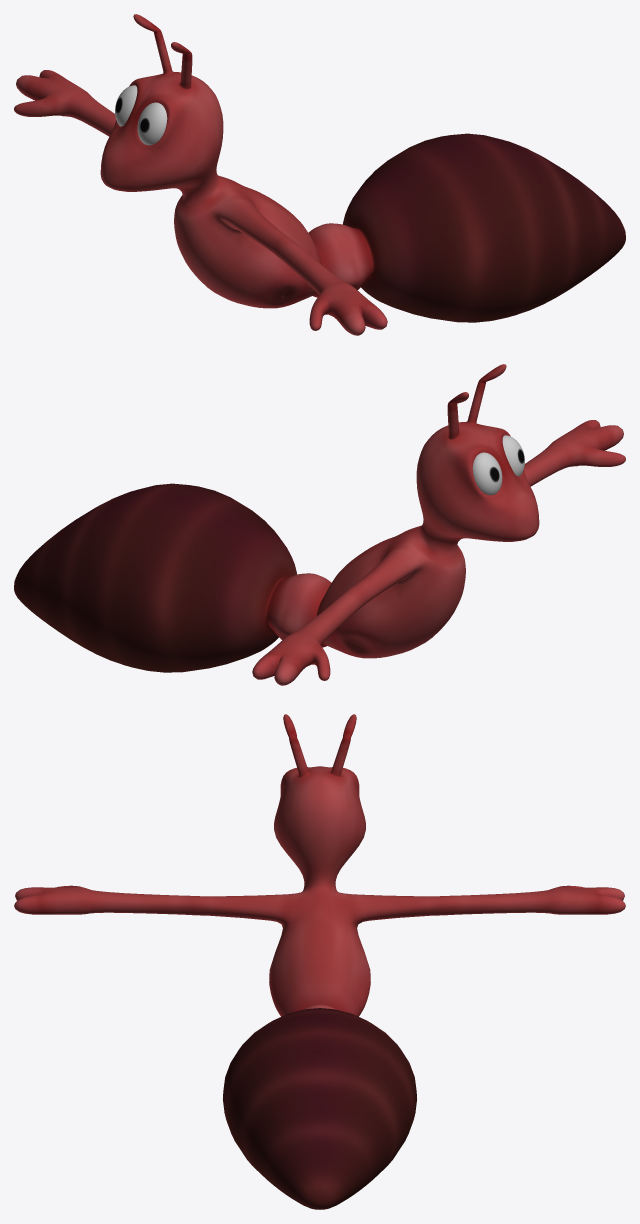
File: antLegsSmall.fbx
The picture shows the model from 3 angles, top to bottom: view 1: azimuth 30°, elevation 25°; view 2: azimuth 150°, elevation 25°; view 3: azimuth 270°, elevation 25°; orthographic projection. The views are drawn at different scales.
Parts seen in each view (by area): view 1: Cube; view 2: Cube; view 3: Cube.
Part boxes in pixels (x1,y1,x2,y2): Cube: [14, 14, 625, 335]; Cube: [14, 364, 625, 685]; Cube: [14, 714, 625, 1209].
Bounding box in the file's own units: 571 × 374 × 653.
